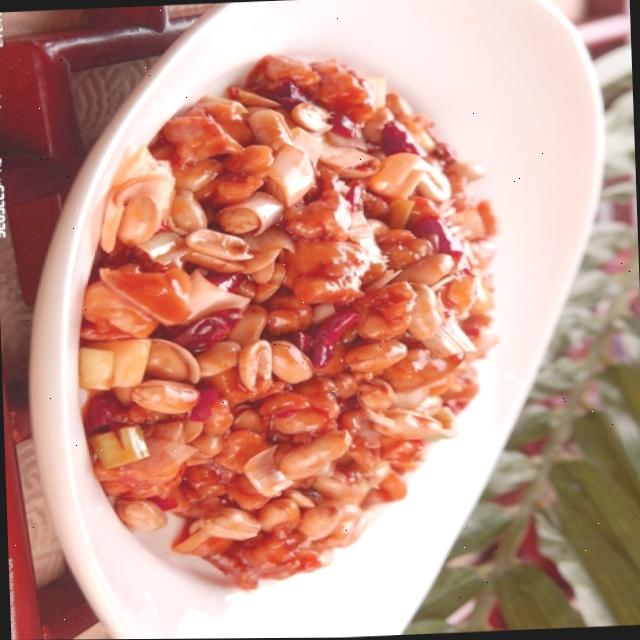鸡肉料理 含炸鸡: (51, 8, 584, 622)
